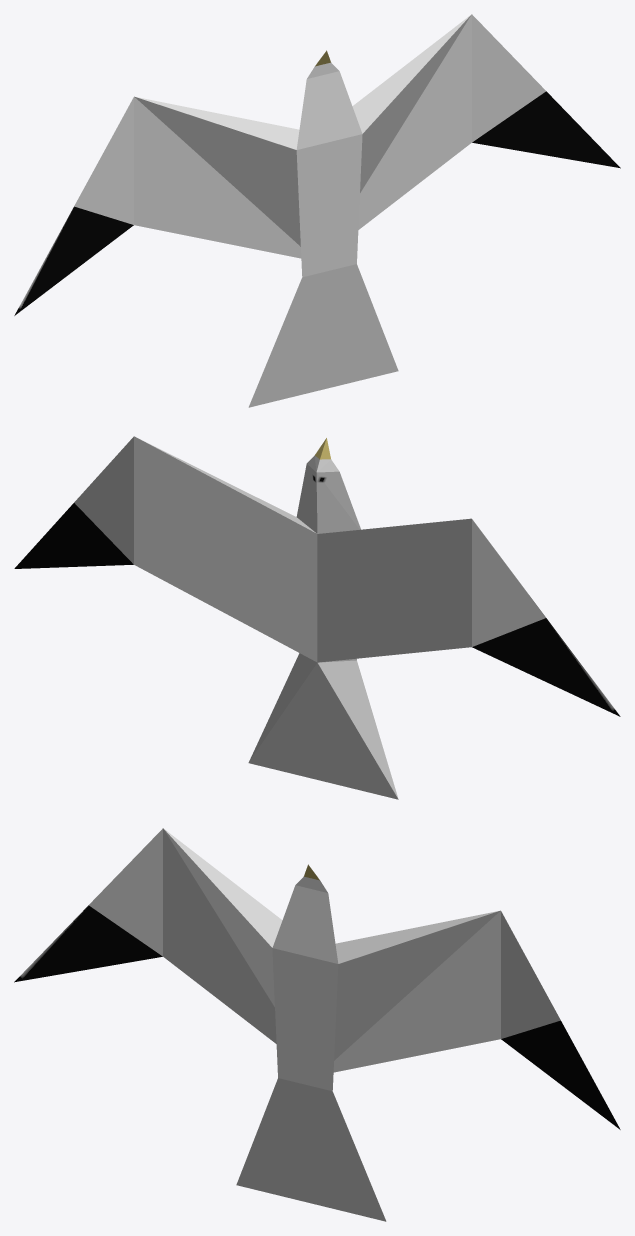
Rendered from seagul_lod1.fbx.
3 views of the same model, one above another, from view 1: azimuth 30°, elevation 25°; view 2: azimuth 150°, elevation 25°; view 3: azimuth 330°, elevation 25° (orthographic).
Parts seen in each view (by area): view 1: bird_no_armature_LOD1; view 2: bird_no_armature_LOD1; view 3: bird_no_armature_LOD1.
Boxes of the visible parts, left/top/right/bottom form: bird_no_armature_LOD1: left=14, top=14, right=620, bottom=407; bird_no_armature_LOD1: left=14, top=436, right=620, bottom=799; bird_no_armature_LOD1: left=14, top=828, right=620, bottom=1221.
Bounding box in the file's own units: 5503 × 2959 × 418.
1 material, 1 textured.
